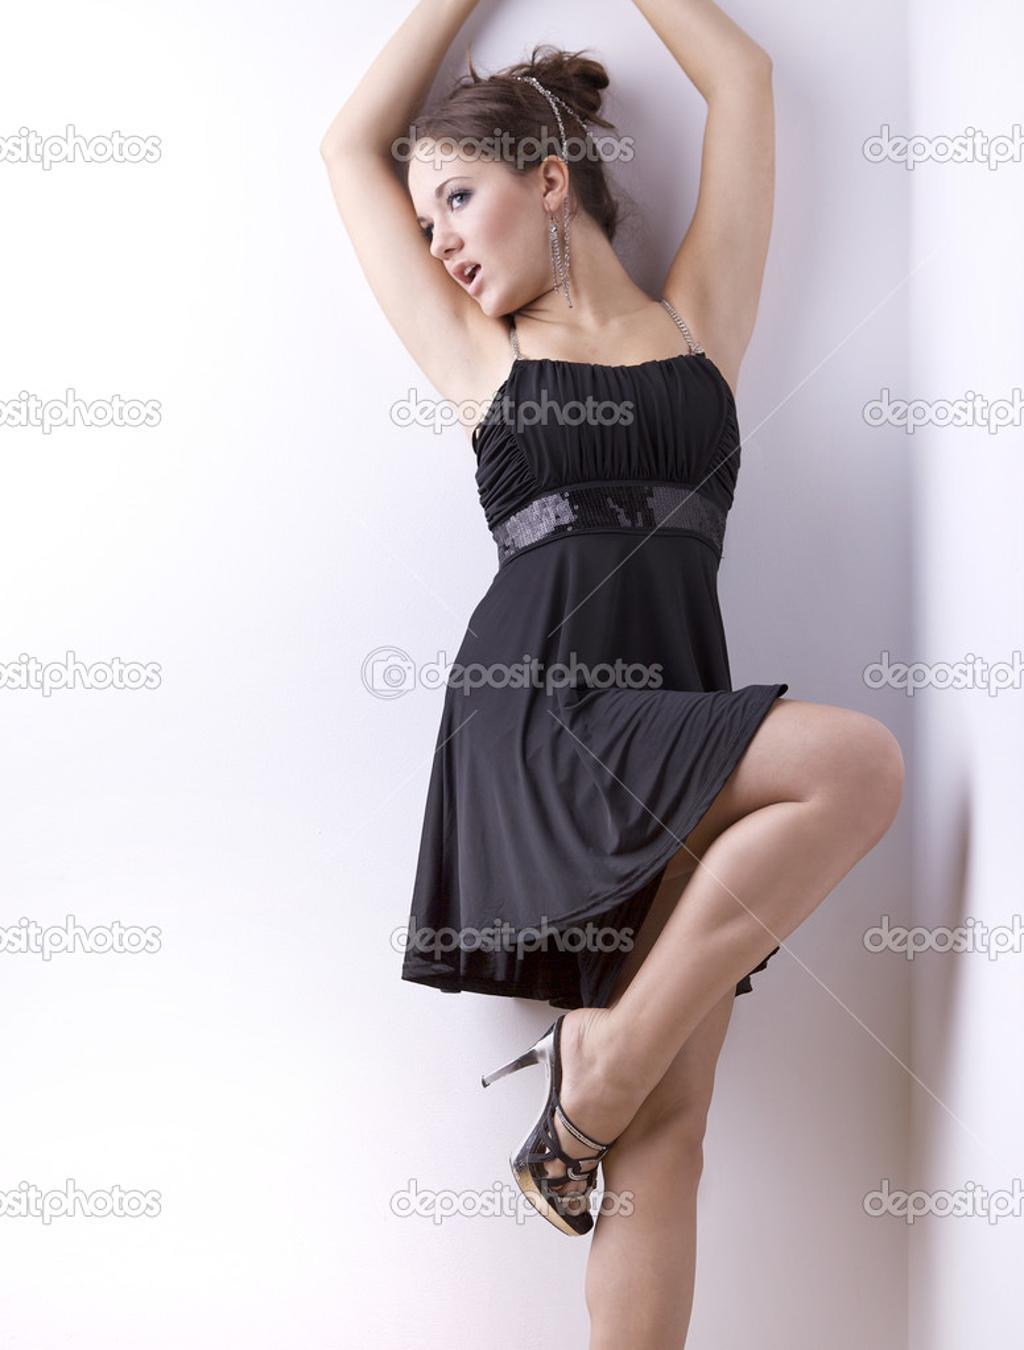face: (404, 143, 549, 315)
